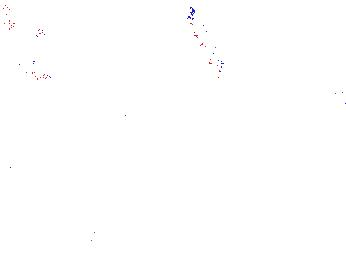red belly glassfish: (254, 1, 271, 24)
redtail glassfish: (185, 4, 225, 86), (16, 56, 66, 93), (1, 3, 48, 39)
siberian prawn: (1, 219, 30, 253)
